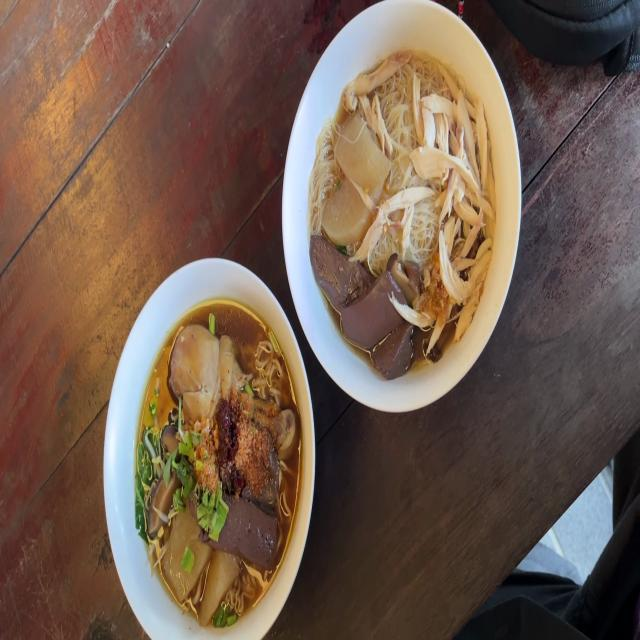noodle: (133, 300, 297, 618), (320, 53, 492, 350)
